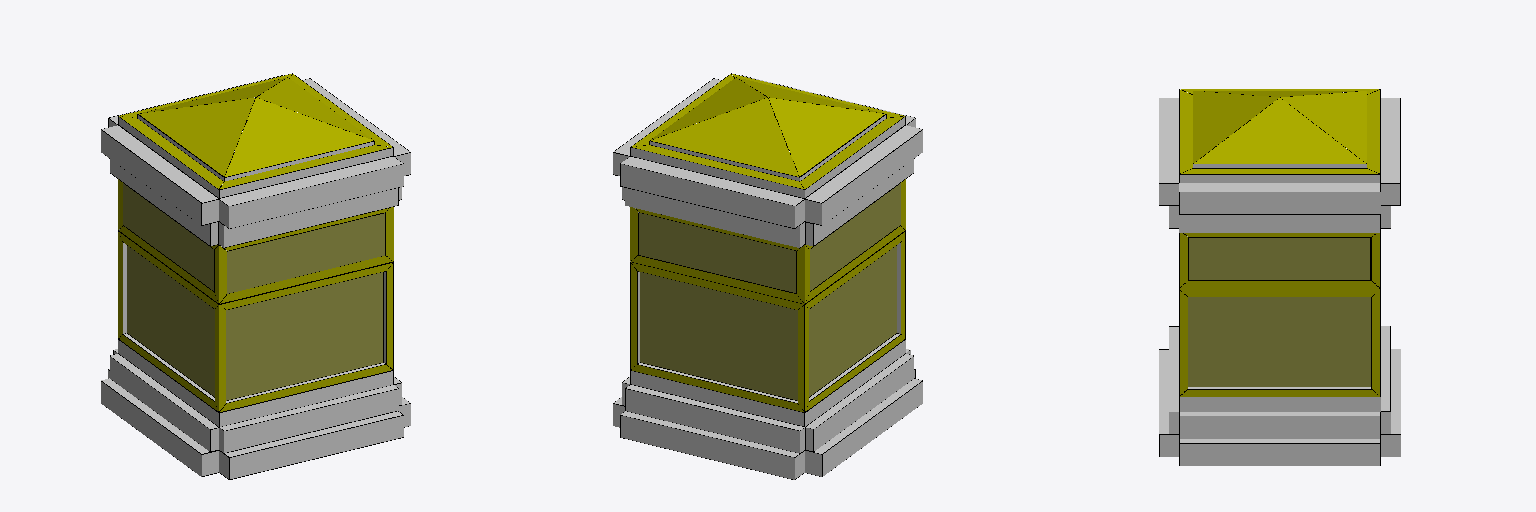
The picture shows the model from 3 angles: view 1: azimuth 30°, elevation 25°; view 2: azimuth 150°, elevation 25°; view 3: azimuth 270°, elevation 25°; orthographic projection.
Visible parts, largest first — view 1: squar_trash_can_Cube.006; view 2: squar_trash_can_Cube.006; view 3: squar_trash_can_Cube.006.
Boxes of the visible parts, x1=… form: squar_trash_can_Cube.006: x1=101, y1=73, x2=410, y2=479; squar_trash_can_Cube.006: x1=613, y1=73, x2=922, y2=479; squar_trash_can_Cube.006: x1=1159, y1=89, x2=1400, y2=465.
Bounding box in the file's own units: 2.4 × 3.48 × 2.4.
Materials: 1 (1 with a texture image).